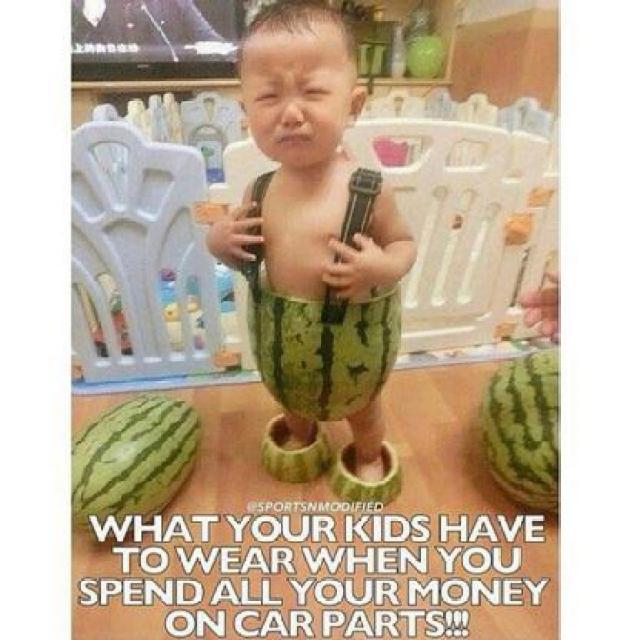Watermelon: (242, 272, 404, 425), (66, 390, 200, 538), (477, 348, 566, 514), (330, 436, 404, 507), (260, 411, 331, 484)
